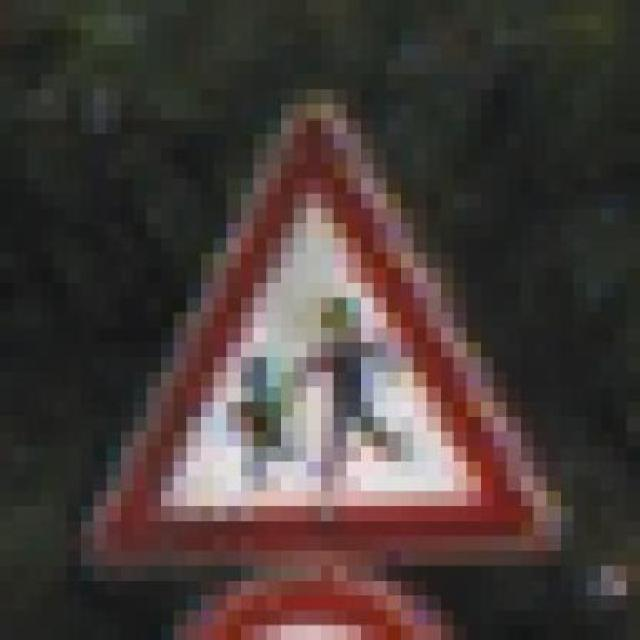Beware of children: (66, 59, 560, 566)
